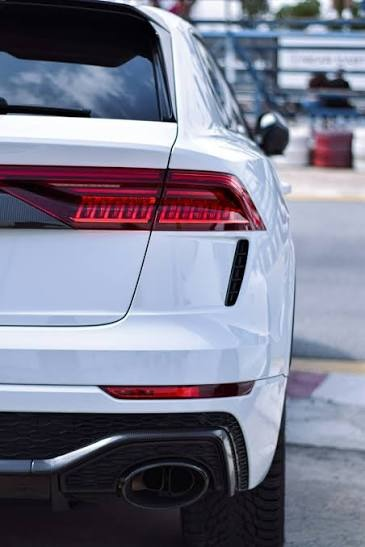car: (1, 1, 306, 547), (1, 3, 292, 234), (203, 11, 293, 153)
